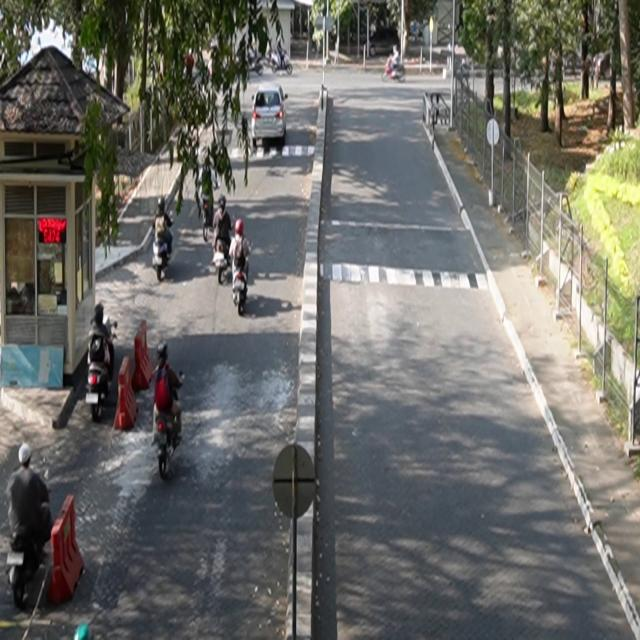car: (252, 84, 289, 149)
